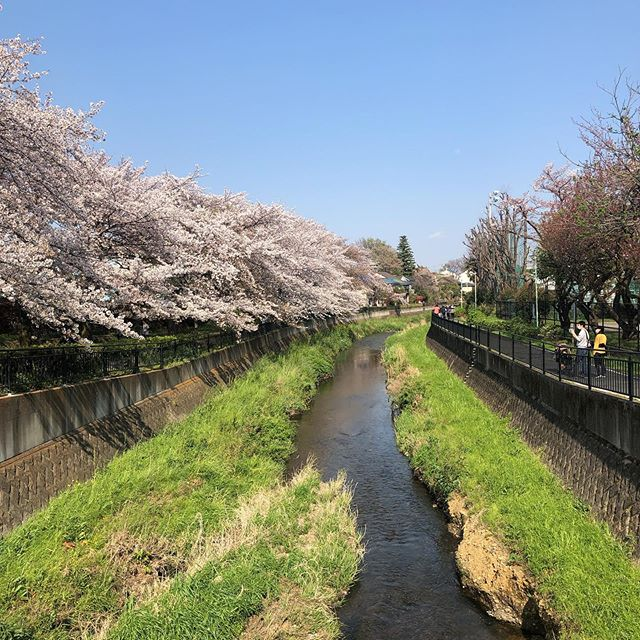grass: (67, 329, 335, 640), (402, 334, 640, 640)
river: (282, 299, 533, 640)
sky: (19, 1, 640, 238)
vegetation: (1, 130, 369, 350), (459, 126, 640, 325)
